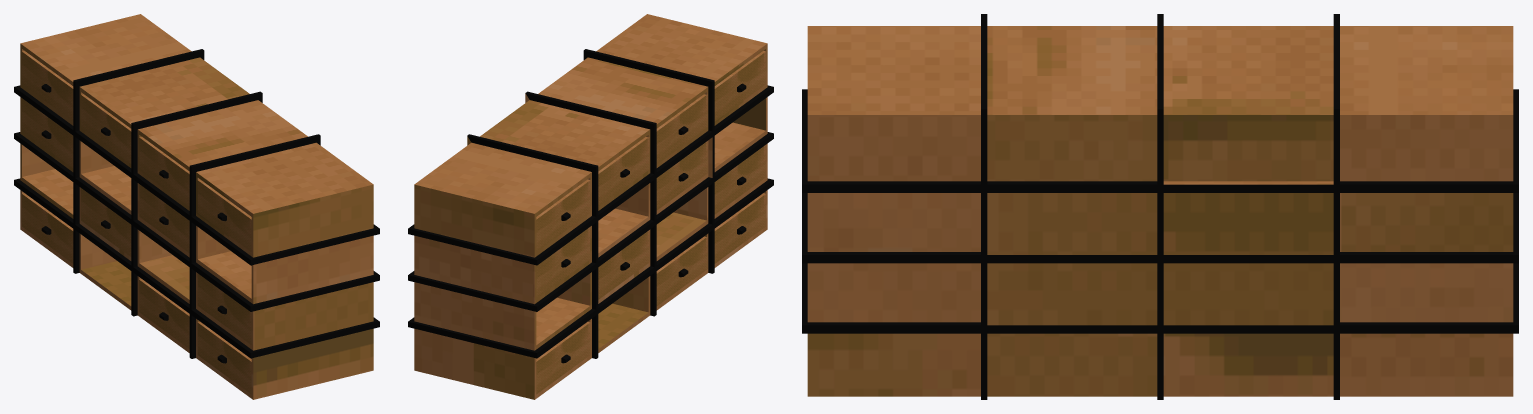
Rendered from Armadietto_Cassetto.fbx.
The picture shows the model from 3 angles, left to right: view 1: azimuth 30°, elevation 25°; view 2: azimuth 150°, elevation 25°; view 3: azimuth 270°, elevation 25°; orthographic projection. The views are drawn at different scales.
Parts seen in each view (by area): view 1: Cylinder.020, Cylinder.021, Cylinder.037, Cylinder.029, Cylinder.034, Cylinder.028, Cylinder.036, Cylinder.027, Cylinder.033, Cylinder.026, Cylinder.022, Cylinder.032; view 2: Cylinder.020, Cylinder.029, Cylinder.034, Cylinder.021, Cylinder.037, Cylinder.027, Cylinder.036, Cylinder.028, Cylinder.026, Cylinder.022, Cylinder.032, Cylinder.033; view 3: Cylinder.020.
Boxes of the visible parts, left/top/right/bottom form: Cylinder.020: left=14, top=14, right=379, bottom=399; Cylinder.021: left=197, top=179, right=251, bottom=251; Cylinder.037: left=197, top=321, right=251, bottom=394; Cylinder.029: left=22, top=51, right=73, bottom=121; Cylinder.034: left=22, top=193, right=73, bottom=263; Cylinder.028: left=81, top=94, right=131, bottom=163; Cylinder.036: left=139, top=279, right=189, bottom=348; Cylinder.027: left=139, top=137, right=189, bottom=206; Cylinder.033: left=197, top=273, right=251, bottom=344; Cylinder.026: left=22, top=98, right=73, bottom=167; Cylinder.022: left=139, top=184, right=189, bottom=252; Cylinder.032: left=81, top=188, right=131, bottom=256; Cylinder.020: left=408, top=14, right=773, bottom=399; Cylinder.029: left=536, top=179, right=590, bottom=251; Cylinder.034: left=536, top=321, right=590, bottom=394; Cylinder.021: left=714, top=51, right=765, bottom=121; Cylinder.037: left=714, top=193, right=765, bottom=263; Cylinder.027: left=656, top=94, right=707, bottom=163; Cylinder.036: left=656, top=236, right=707, bottom=305; Cylinder.028: left=598, top=137, right=649, bottom=206; Cylinder.026: left=536, top=227, right=590, bottom=298; Cylinder.022: left=656, top=141, right=707, bottom=210; Cylinder.032: left=598, top=230, right=649, bottom=299; Cylinder.033: left=714, top=145, right=765, bottom=214; Cylinder.020: left=802, top=14, right=1518, bottom=399.
Bounding box in the file's own units: 0.9232 × 1.31 × 2.92.
Materials: 2 (1 with a texture image).
